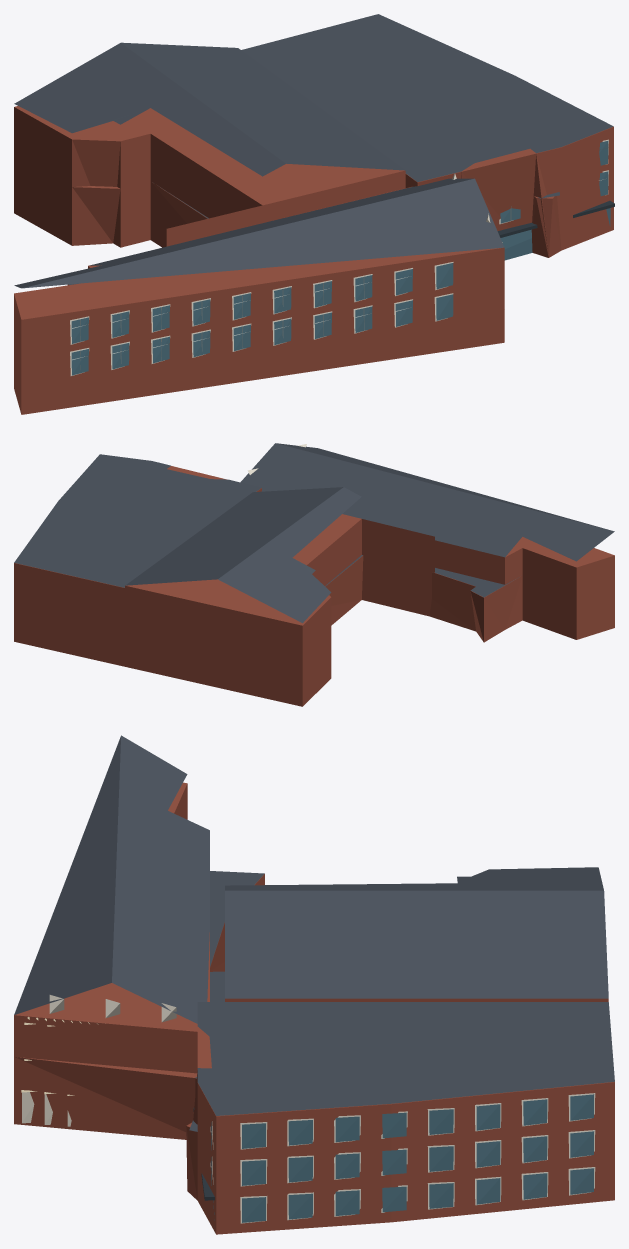
The model's file is brakke-grond.lod1.glb.
The picture shows the model from 3 angles, top to bottom: view 1: azimuth 30°, elevation 25°; view 2: azimuth 150°, elevation 25°; view 3: azimuth 270°, elevation 25°; orthographic projection. The views are drawn at different scales.
Visible parts, largest first — view 1: brakke-grond; view 2: brakke-grond; view 3: brakke-grond.
Boxes of the visible parts, left/top/right/bottom form: brakke-grond: left=14, top=14, right=614, bottom=414; brakke-grond: left=14, top=443, right=614, bottom=706; brakke-grond: left=14, top=735, right=614, bottom=1234.
Bounding box in the file's own units: 82.27 × 17.65 × 58.97.
